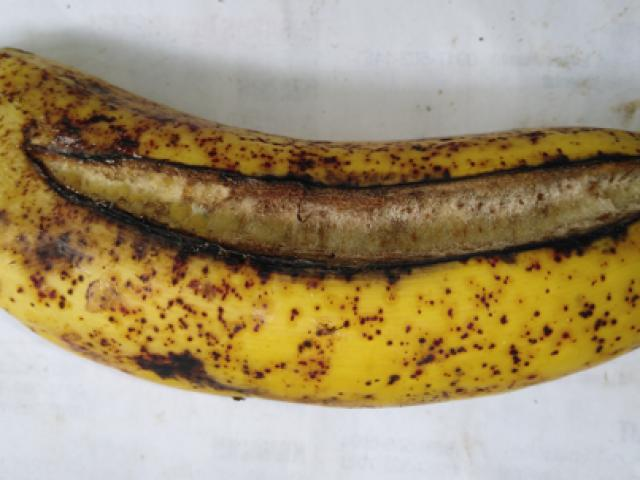rotten: (30, 89, 639, 305)
